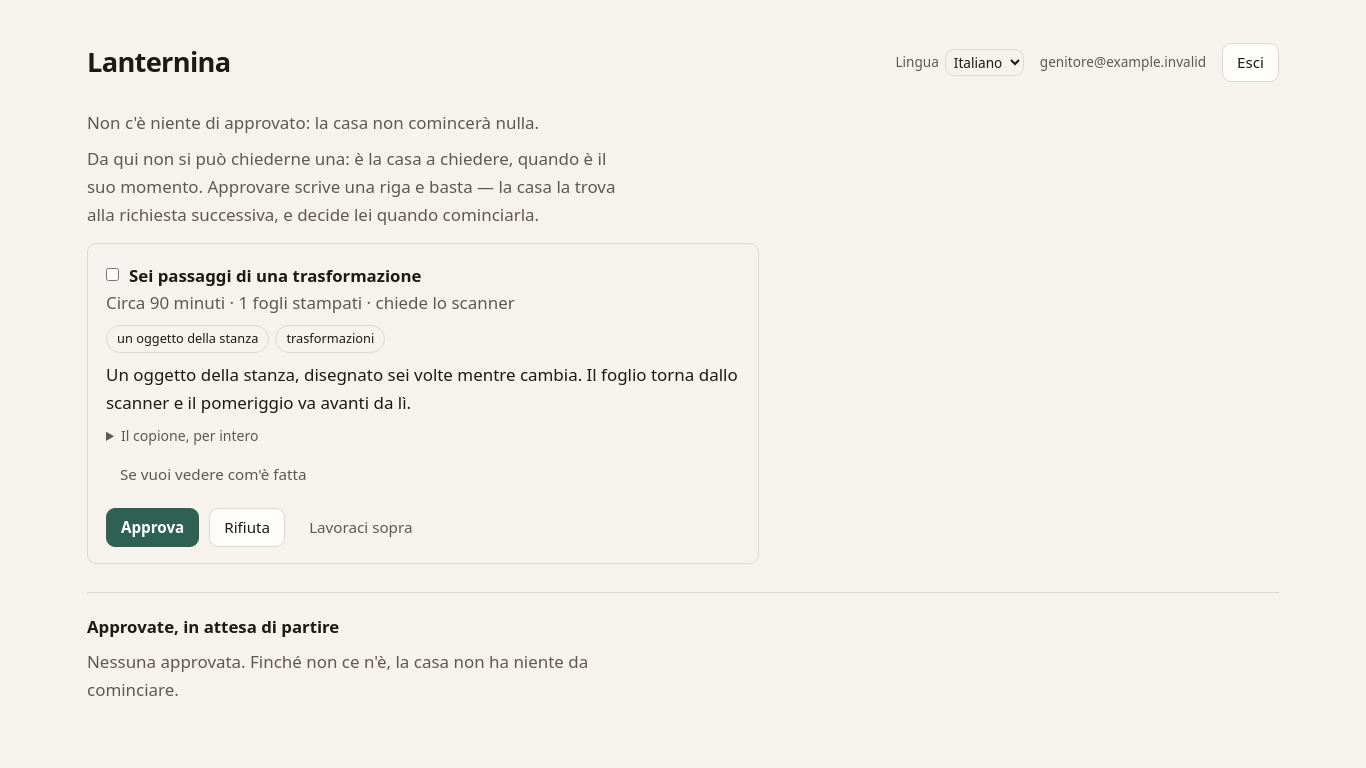
Test case: an afternoon offered to the parent › says so and leaves the afternoon there when the decision does not get through
The width and height of the screenshot is (1366, 768).
Expected: the text "Sei passaggi di una trasformazione" is shown, [129,262,421,290]
Click the button "Approva".
click(153, 527)  # box [106,508,199,547]
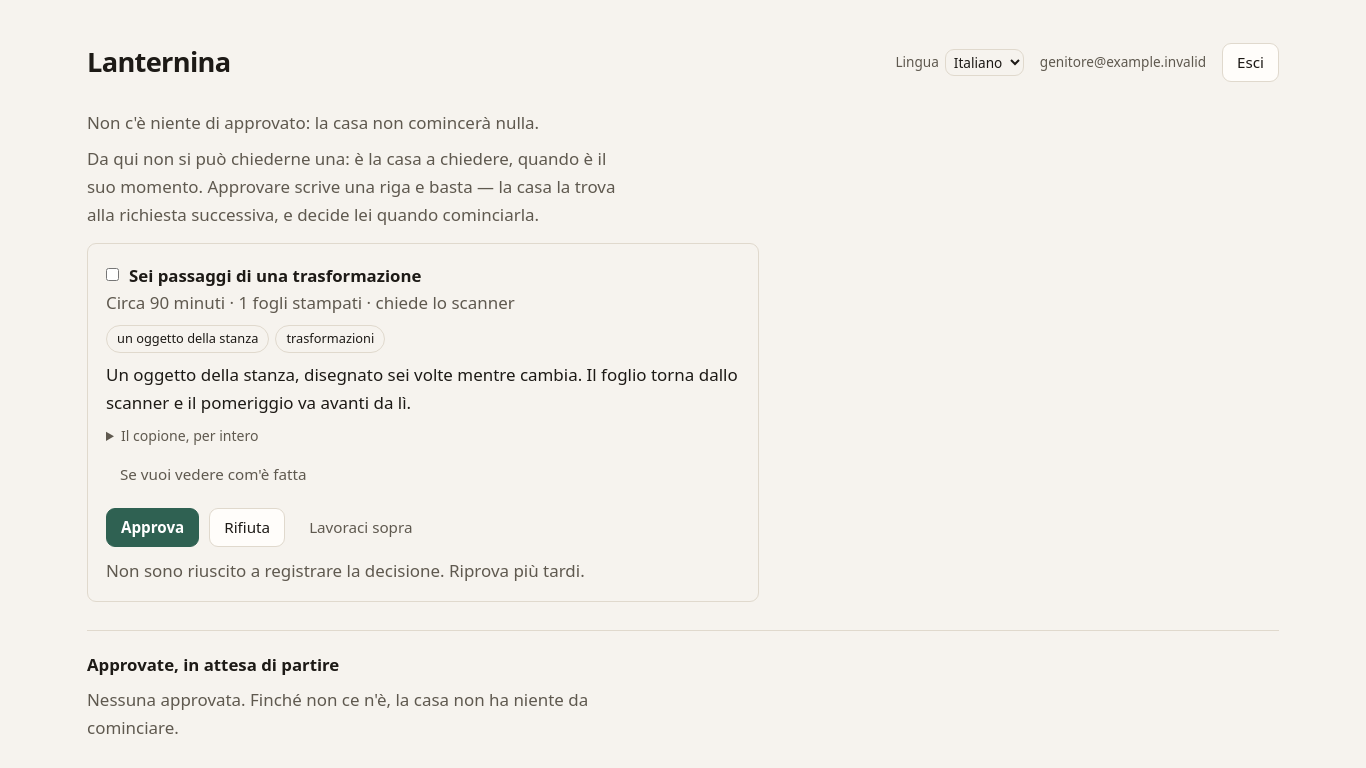
Expected: the text "Sei passaggi di una trasformazione" is shown, [129,262,421,290]
Now the text "Non sono riuscito a registrare la decisione. Riprova più tardi." is shown, box [106,557,650,585]
